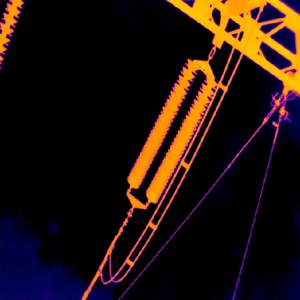insulator: (127, 59, 218, 204)
